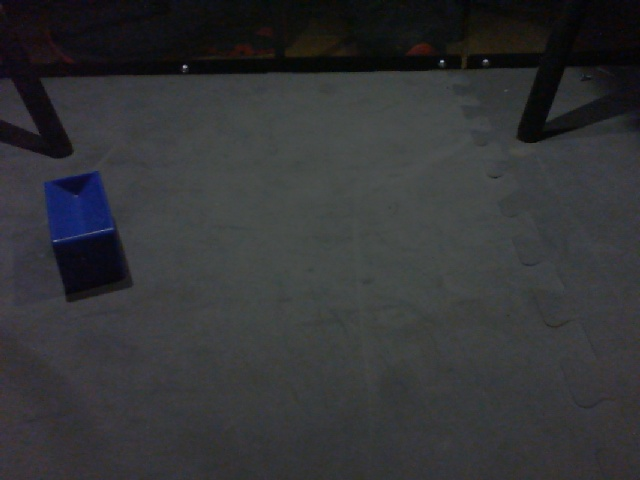BlueSample: (42, 171, 126, 286)
